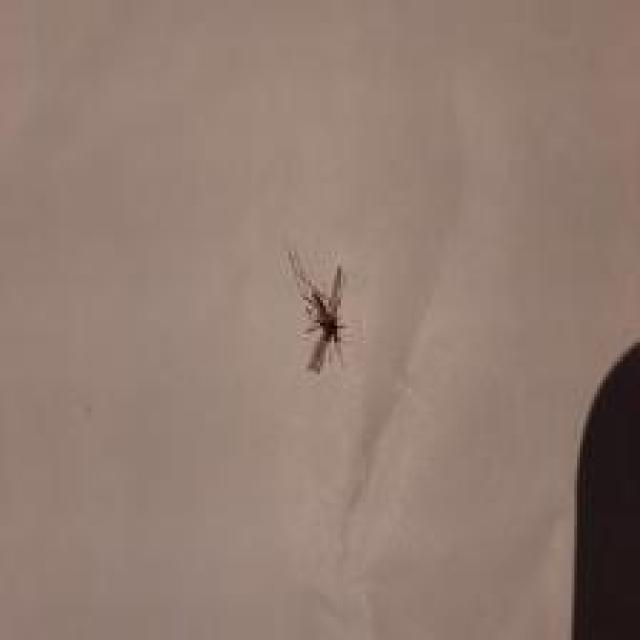Culex: (286, 249, 351, 374)
